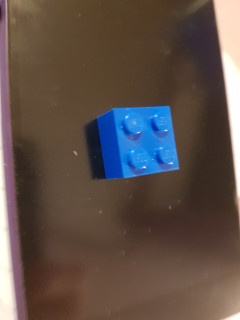2x2 blue: (95, 105, 182, 180)
